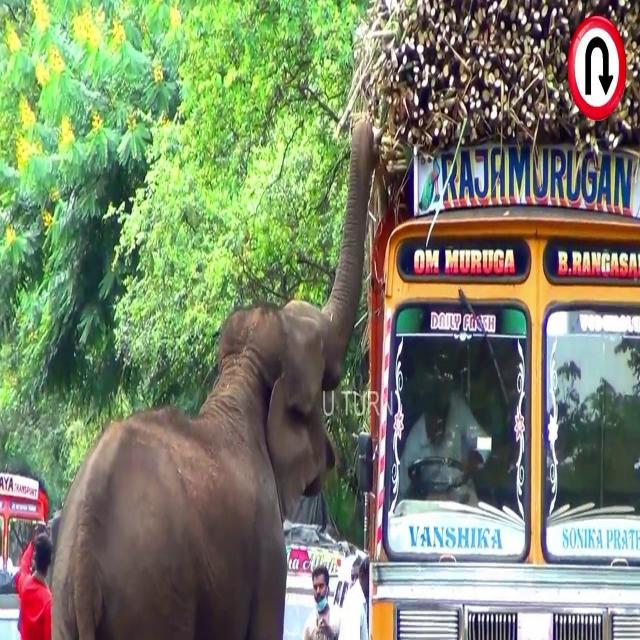Elephant: (50, 112, 378, 633)
